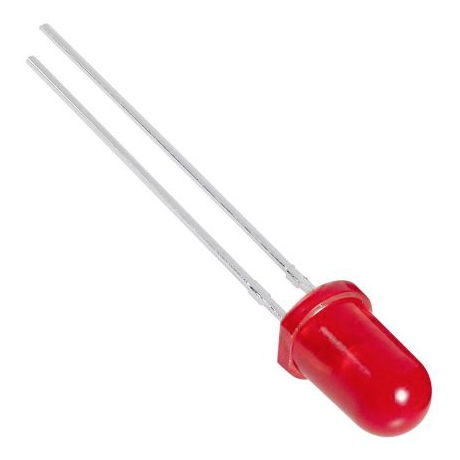LED: (276, 280, 433, 437)
